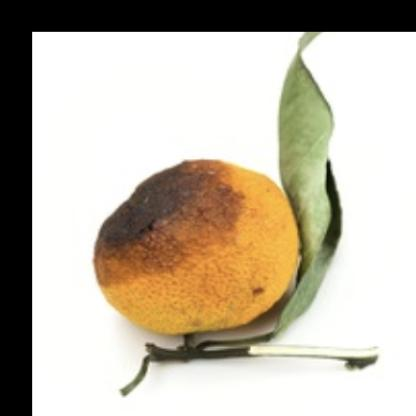rotten: (95, 160, 307, 341)
